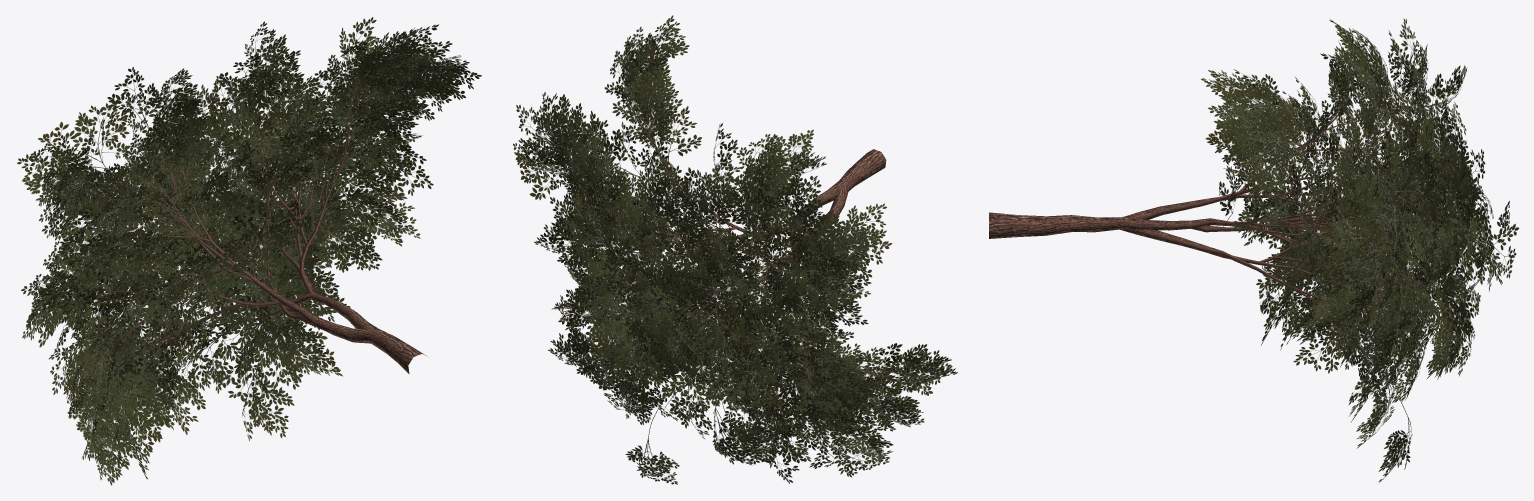
Rendered from tree.glb.
3 views of the same model, side by side, from view 1: azimuth 30°, elevation 25°; view 2: azimuth 150°, elevation 25°; view 3: azimuth 270°, elevation 25° (orthographic). The views are drawn at different scales.
Visible parts, largest first — view 1: Tree_polySurface1 g1 g2 polySurface1, Tree_polySurface1 g1 polySurface1; view 2: Tree_polySurface1 g1 g2 polySurface1, Tree_polySurface1 g1 polySurface1; view 3: Tree_polySurface1 g1 g2 polySurface1, Tree_polySurface1 g1 polySurface1.
Part boxes in pixels (bbox=[...]): Tree_polySurface1 g1 g2 polySurface1: bbox=[17, 17, 481, 485]; Tree_polySurface1 g1 polySurface1: bbox=[68, 63, 426, 428]; Tree_polySurface1 g1 g2 polySurface1: bbox=[513, 15, 957, 484]; Tree_polySurface1 g1 polySurface1: bbox=[558, 71, 906, 452]; Tree_polySurface1 g1 g2 polySurface1: bbox=[1201, 18, 1519, 481]; Tree_polySurface1 g1 polySurface1: bbox=[989, 79, 1487, 425].
Bounding box in the file's own units: 3.63 × 3.55 × 3.82.
Materials: 2 (2 with a texture image).
